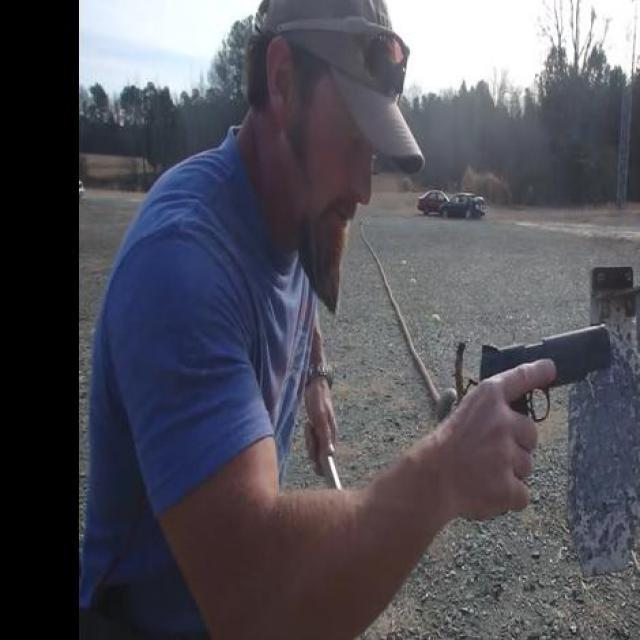Gun: (470, 317, 616, 500)
